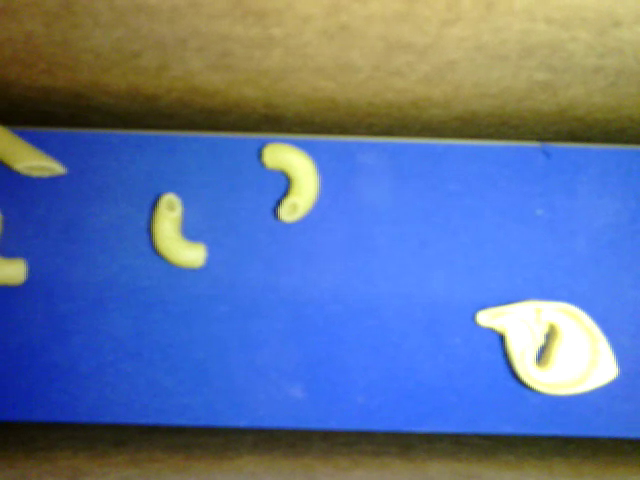elbow: (260, 142, 320, 224), (151, 193, 207, 268), (1, 212, 28, 285)
penne: (1, 124, 70, 178)
tortellini: (475, 299, 618, 395)
